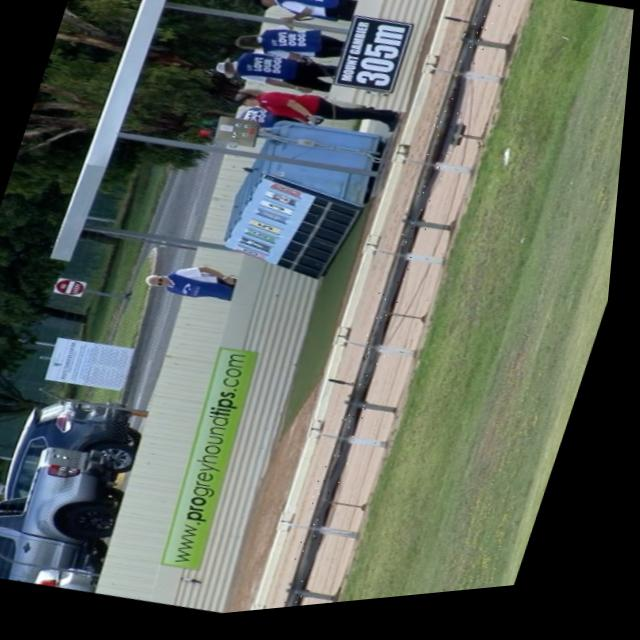rail: (298, 0, 497, 614)
